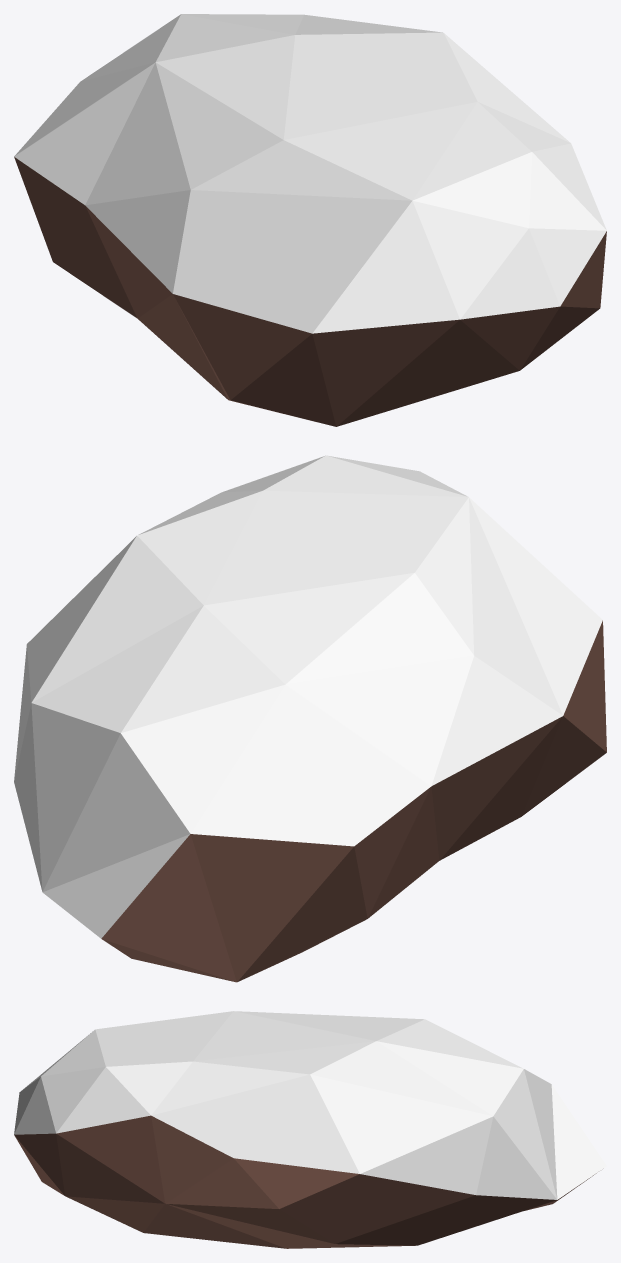
File: snow_stone_012.fbx
3 renders of one model, top to bottom at view 1: azimuth 30°, elevation 25°; view 2: azimuth 150°, elevation 25°; view 3: azimuth 270°, elevation 25°, orthographic. The views are drawn at different scales.
Parts seen in each view (by area): view 1: snow_stone_012; view 2: snow_stone_012; view 3: snow_stone_012.
Boxes of the visible parts, <box> form: snow_stone_012: <box>14,14,606,426</box>; snow_stone_012: <box>14,455,606,982</box>; snow_stone_012: <box>14,1011,606,1248</box>.
Size of the model in its own units: 490 by 778 by 303.
